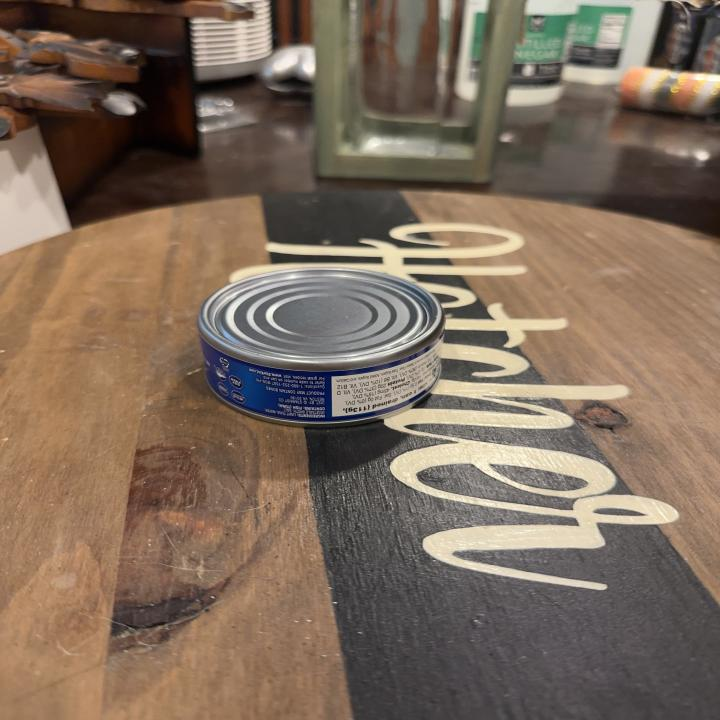Canned-Tuna: (196, 265, 446, 427)
